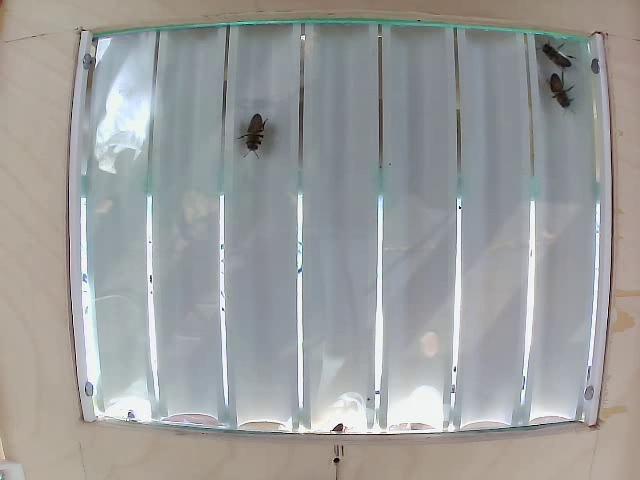bee: (239, 102, 273, 152), (547, 75, 584, 119), (540, 36, 574, 74)
